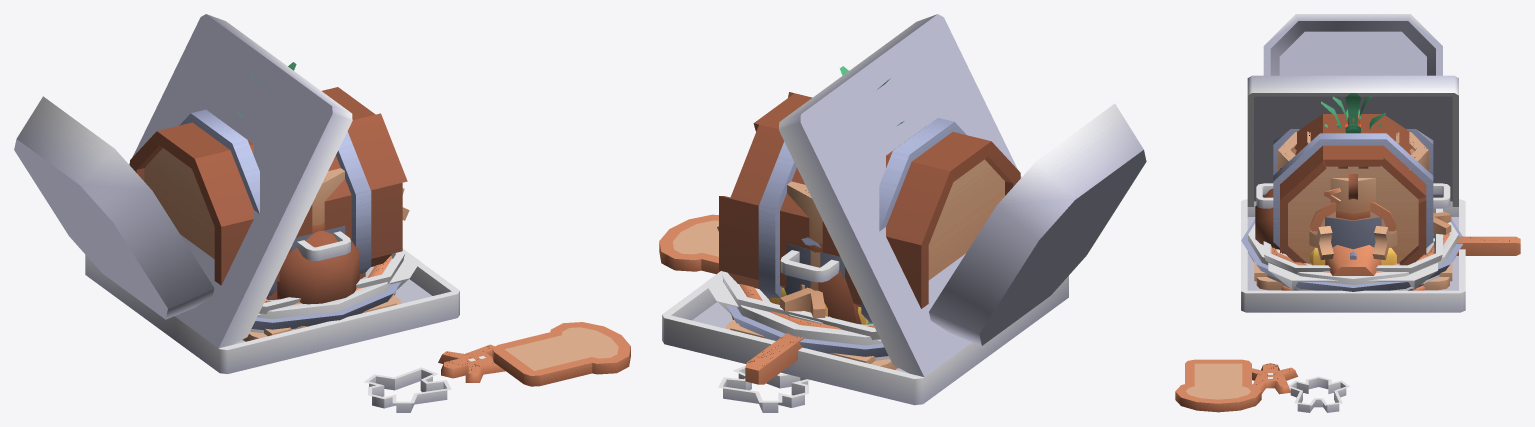
Rendered from bread.glb.
3 views of the same model, side by side, from view 1: azimuth 30°, elevation 25°; view 2: azimuth 150°, elevation 25°; view 3: azimuth 270°, elevation 25° (orthographic). The views are drawn at different scales.
Parts seen in each view (by area): view 1: lid, barrel, lid.002, pizza-box, bread, wholer-ham, ginger-bread-cutter, pie, plate-deep, ginger-bread, pot, layer.001 (+1 smaller); view 2: lid, barrel, lid.002, pizza-box, bread, pie, ginger-bread-cutter, plate-deep, pot, frying-pan, styrofoam, leg.001 (+3 smaller); view 3: barrel, lid, lid.002, pizza-box, bread, layer.001, pot, pie, plate-deep, styrofoam, loaf-baguette, ginger-bread-cutter (+9 smaller).
Boxes of the visible parts, bbox=[...] form: lid: bbox=[129, 14, 352, 348]; barrel: bbox=[130, 87, 407, 298]; lid.002: bbox=[14, 96, 214, 319]; pizza-box: bbox=[85, 255, 459, 373]; bread: bbox=[492, 322, 630, 386]; wholer-ham: bbox=[277, 231, 359, 304]; ginger-bread-cutter: bbox=[364, 367, 451, 412]; pie: bbox=[251, 256, 400, 330]; plate-deep: bbox=[257, 258, 403, 319]; ginger-bread: bbox=[438, 344, 505, 382]; pot: bbox=[291, 225, 350, 261]; layer.001: bbox=[312, 168, 344, 233]; lid: bbox=[779, 14, 1021, 377]; barrel: bbox=[719, 92, 1020, 322]; lid.002: bbox=[929, 103, 1146, 345]; pizza-box: bbox=[662, 276, 1068, 405]; bread: bbox=[659, 214, 720, 274]; pie: bbox=[726, 284, 888, 357]; ginger-bread-cutter: bbox=[718, 365, 810, 412]; plate-deep: bbox=[723, 279, 882, 345]; pot: bbox=[780, 244, 844, 295]; frying-pan: bbox=[745, 333, 804, 384]; styrofoam: bbox=[721, 272, 880, 339]; leg.001: bbox=[717, 226, 861, 324]; barrel: bbox=[1273, 114, 1433, 265]; lid: bbox=[1247, 75, 1458, 206]; lid.002: bbox=[1263, 14, 1442, 75]; pizza-box: bbox=[1241, 199, 1465, 312]; bread: bbox=[1175, 359, 1261, 412]; layer.001: bbox=[1277, 132, 1428, 220]; pot: bbox=[1256, 183, 1450, 249]; pie: bbox=[1241, 212, 1462, 291]; plate-deep: bbox=[1248, 212, 1458, 284]; styrofoam: bbox=[1263, 208, 1442, 273]; loaf-baguette: bbox=[1325, 245, 1381, 275]; ginger-bread-cutter: bbox=[1288, 376, 1349, 412].
Size of the model in its own units: 1.92 by 1.31 by 1.46.
202 materials, 200 textured.
